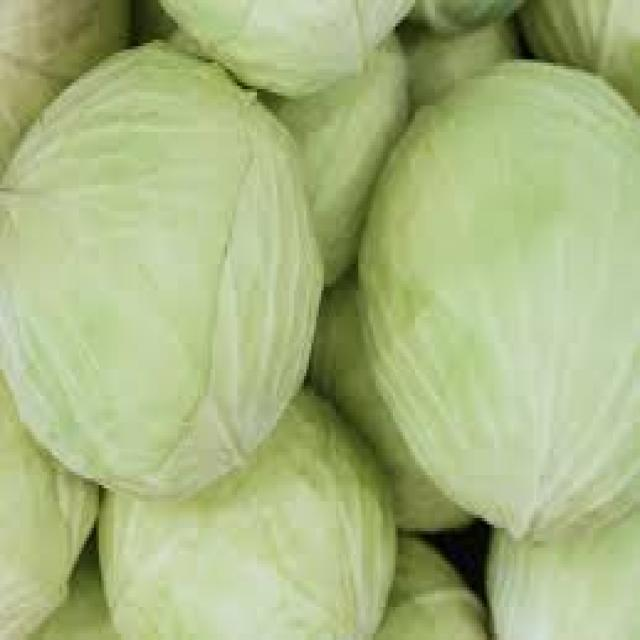cabbage: (0, 36, 326, 502), (357, 44, 640, 524), (69, 412, 441, 640), (151, 0, 446, 107), (490, 470, 640, 640)
